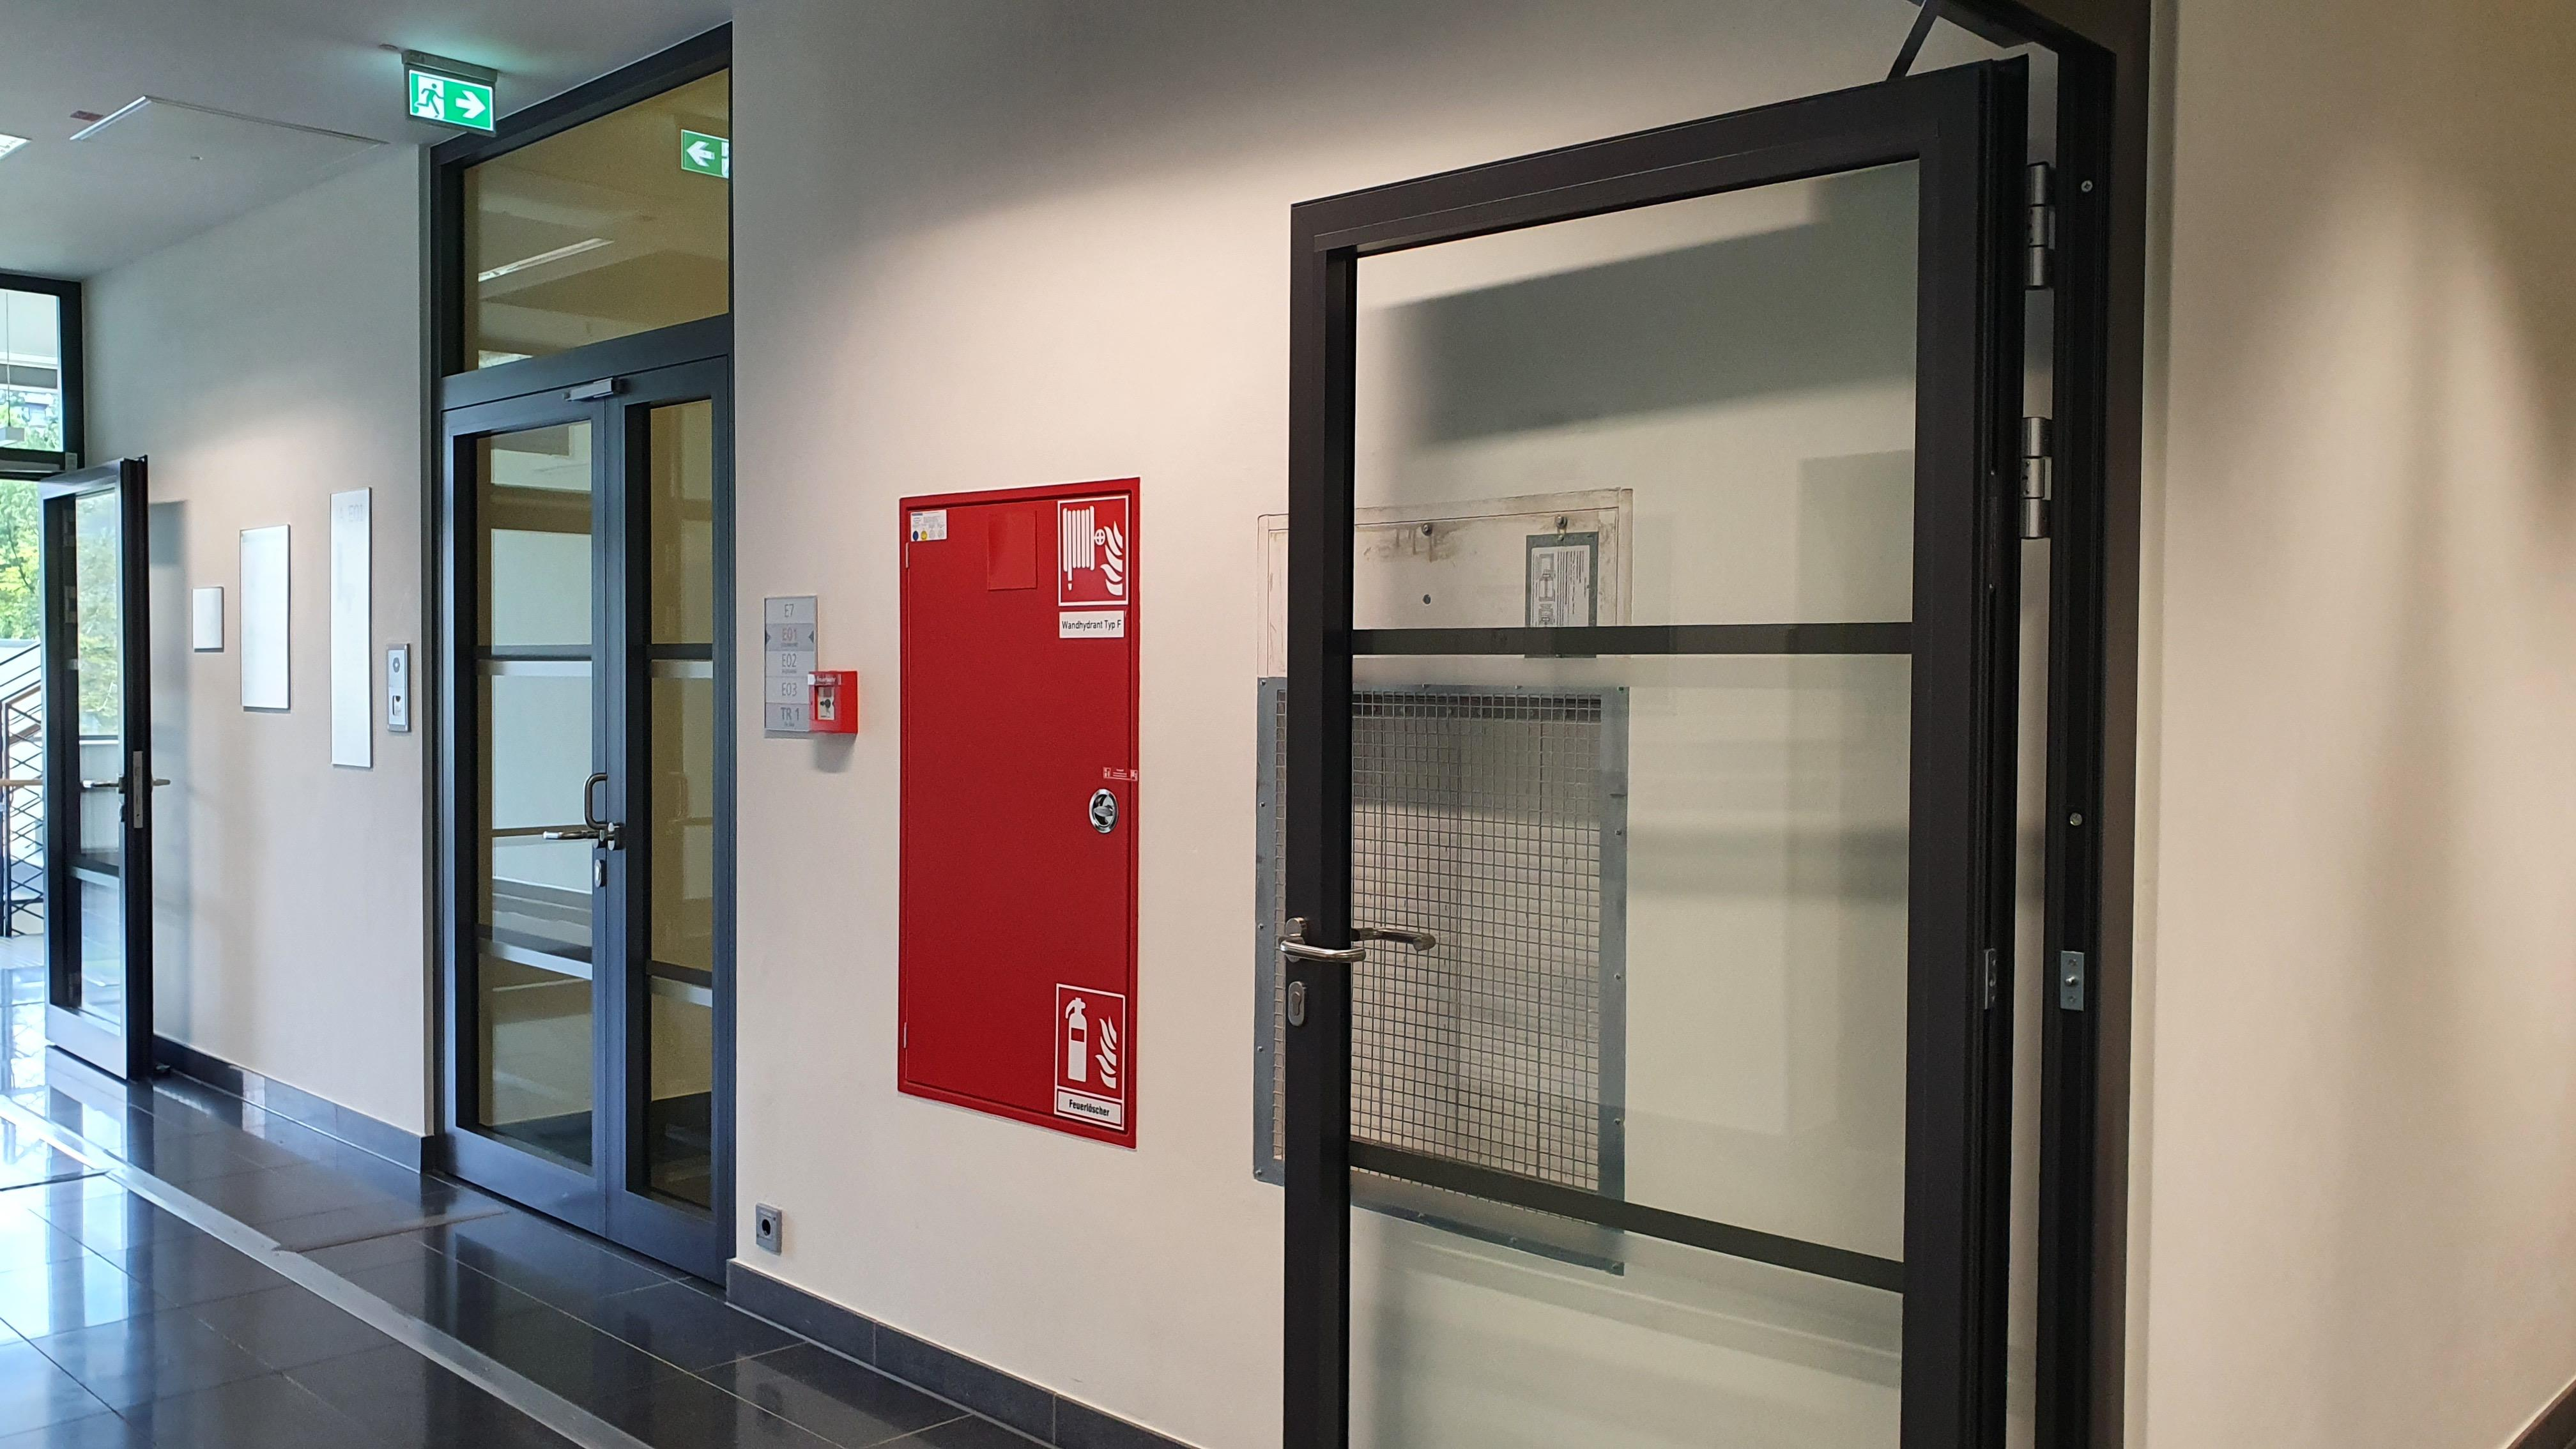call_point: (809, 671, 858, 734)
